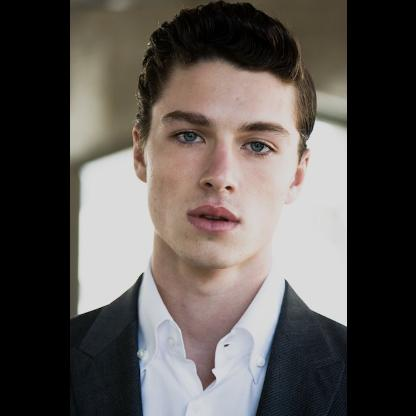Male: (131, 58, 309, 266)
